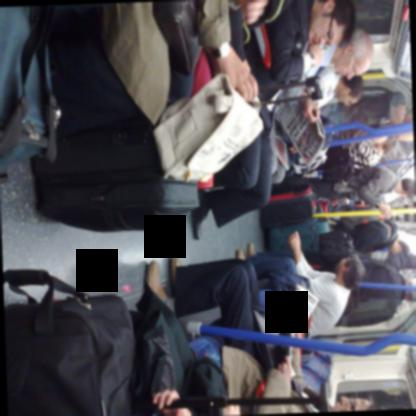backpack: (340, 216, 383, 234)
handbag: (148, 71, 265, 185), (152, 0, 201, 76), (317, 230, 398, 275), (289, 114, 334, 176), (321, 145, 370, 193), (180, 354, 231, 397), (343, 128, 368, 147)
suitcase: (30, 108, 200, 235), (2, 270, 141, 416), (0, 6, 57, 183), (258, 181, 315, 228), (264, 218, 328, 257)
